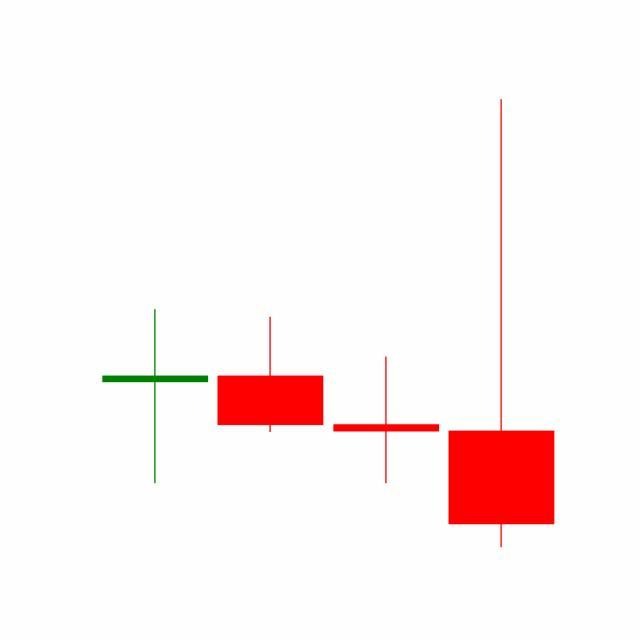Spinning Top: (329, 356, 445, 486)
